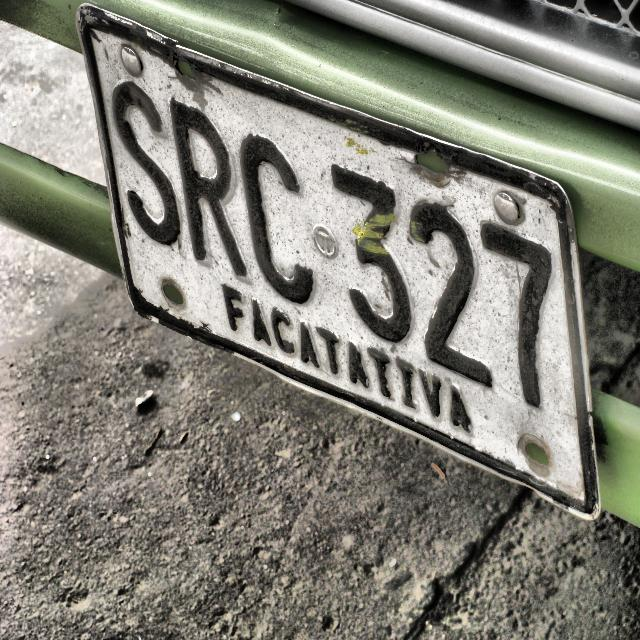plate: (77, 4, 601, 521)
